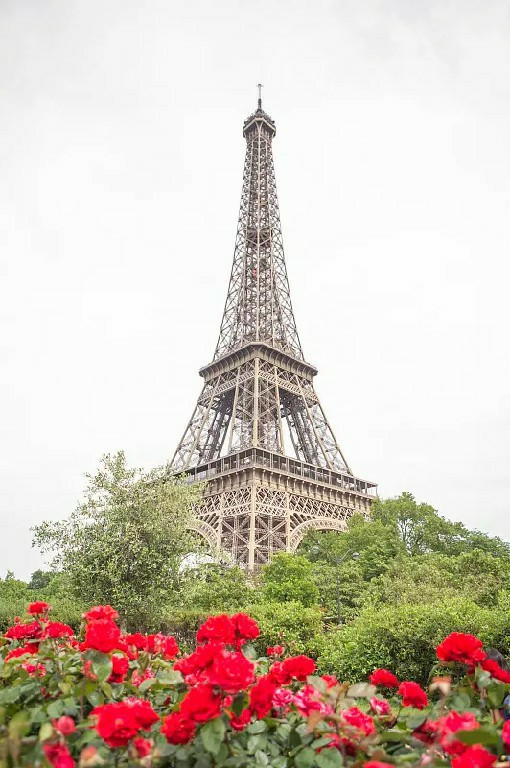Eiffel: (164, 83, 382, 596)
